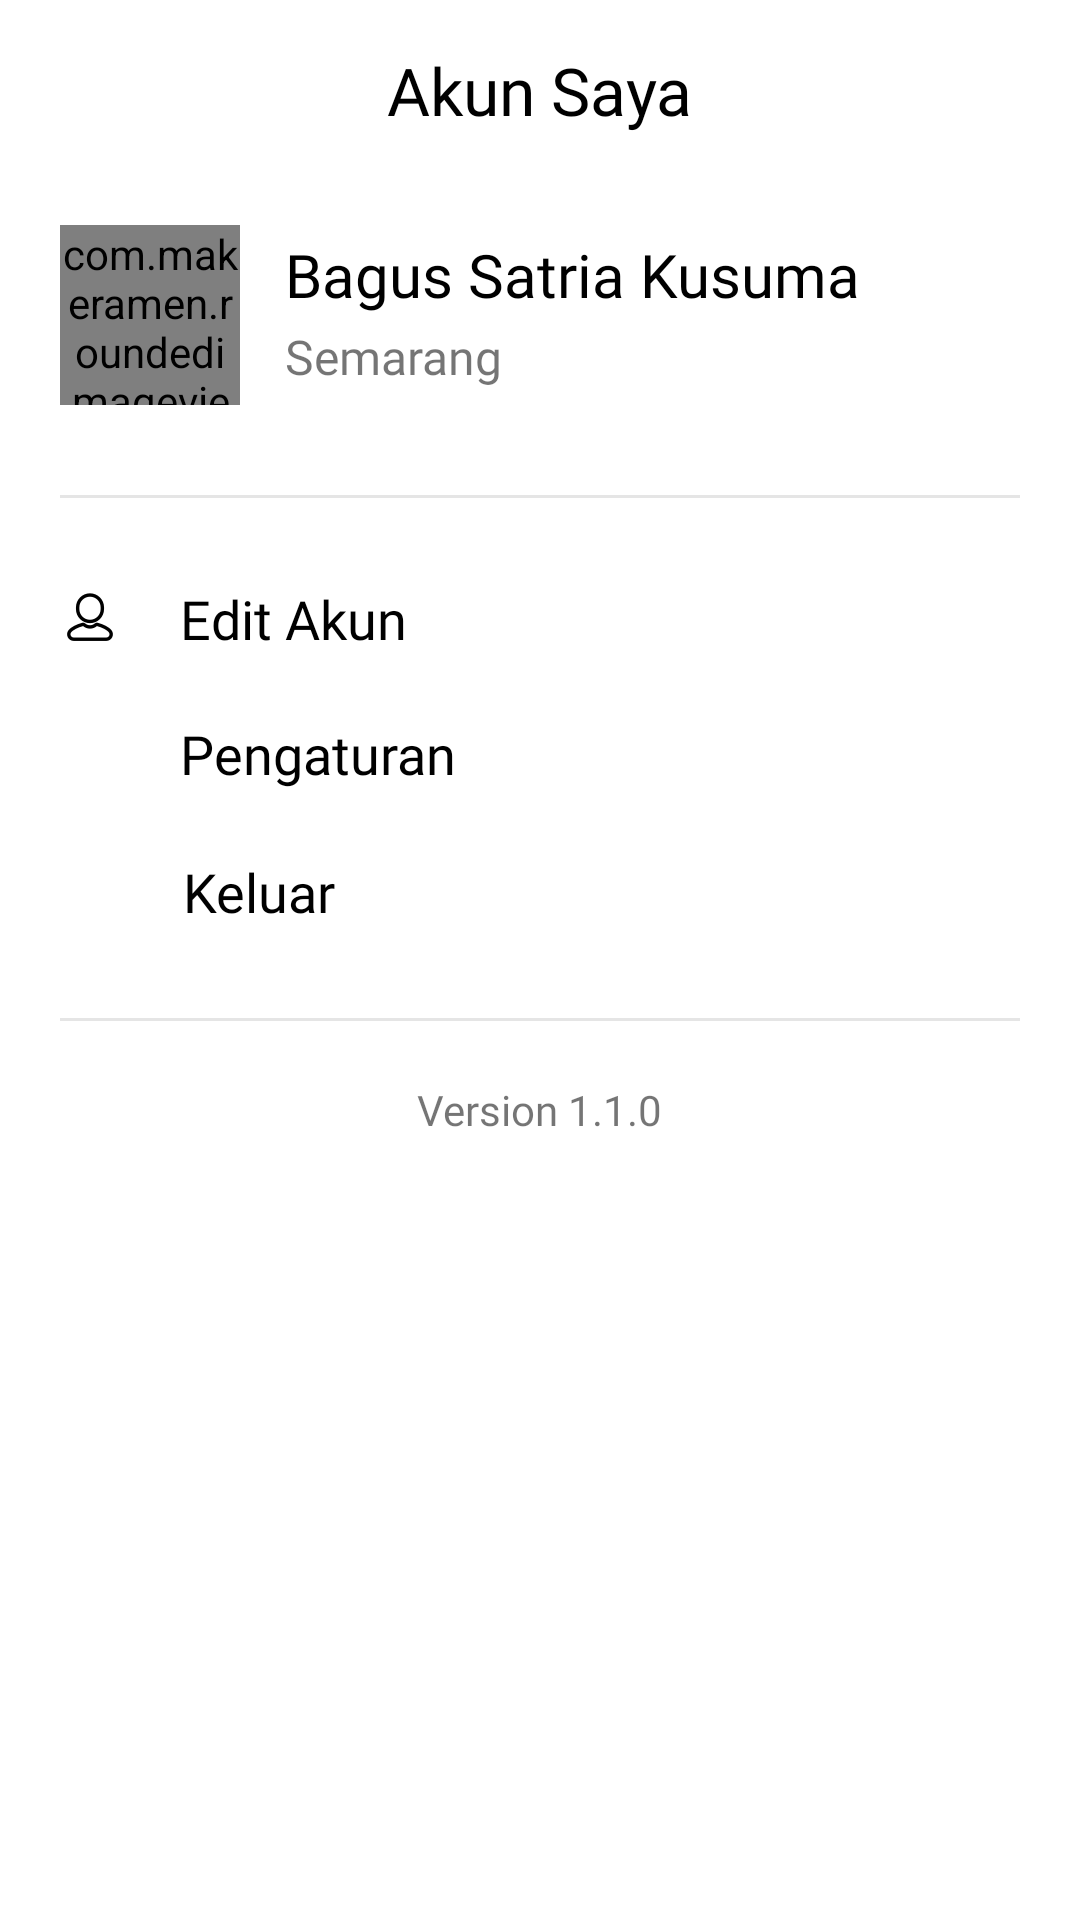

Named icons in this screenshot (1080px×1920px) and their centers, (x=x, y=y):
person: (x=90, y=617)
